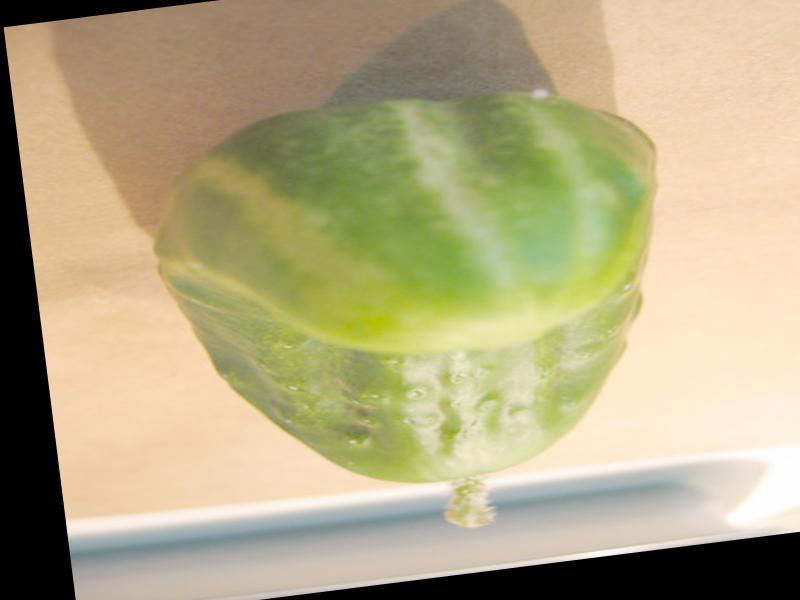Cucumber: (143, 64, 704, 563)
